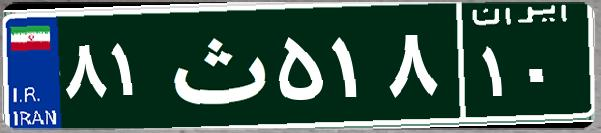0: (525, 38, 570, 115)
1: (330, 28, 385, 110), (475, 38, 525, 113), (110, 28, 158, 105)
5: (273, 28, 330, 110)
8: (385, 28, 445, 110), (57, 26, 110, 107)
ث: (158, 15, 273, 115)
